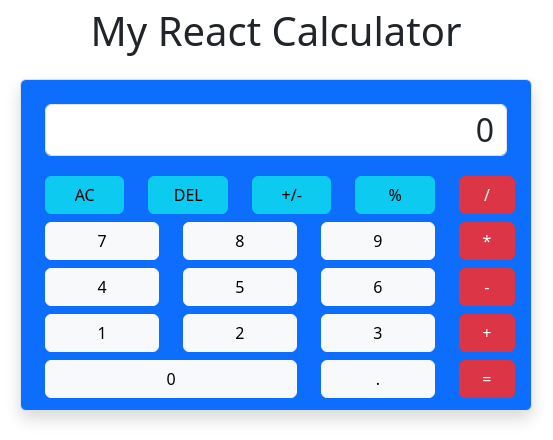
Scenario: Calculator App › should subtract two numbers
// Click on the number buttons to input 5 and 3
Click the button "5" at (240,287), box [183, 268, 297, 306]
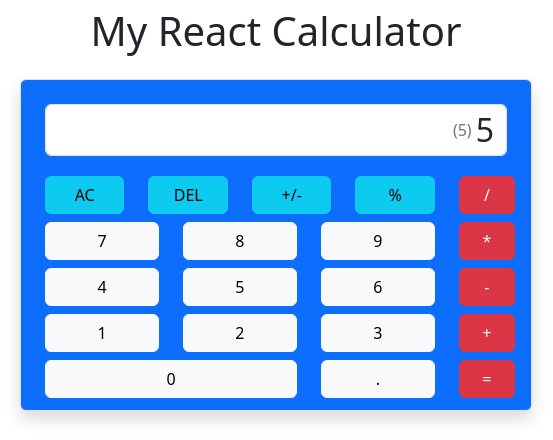
Click the button "-" at (487,287), box [459, 268, 515, 306]
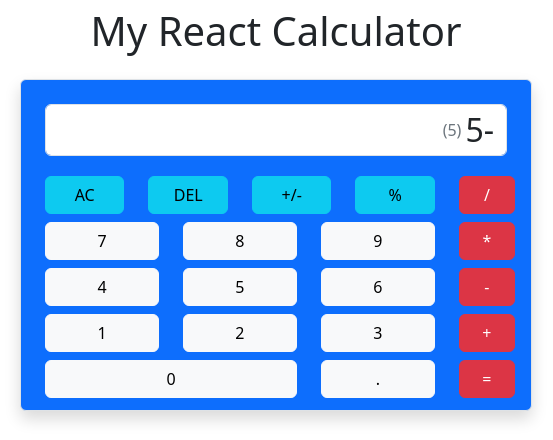
Click the button "3" at (378,333), box [321, 314, 435, 352]
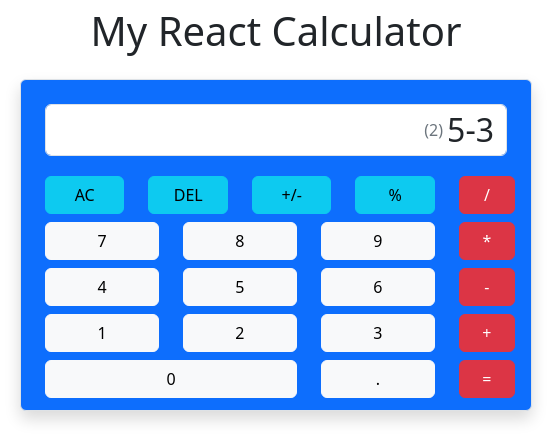
Click the button "=" at (487,379), box [459, 360, 515, 398]
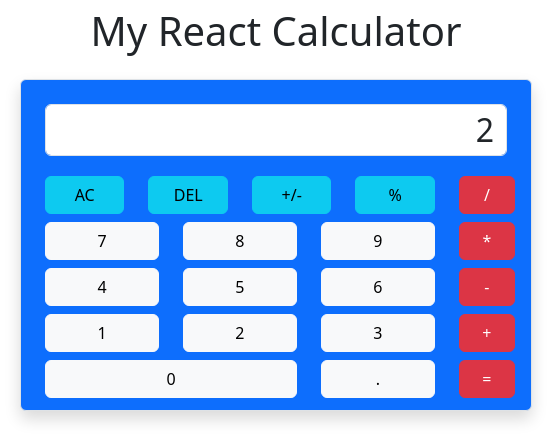
Check: the text "2" is shown, box [476, 111, 494, 149]
